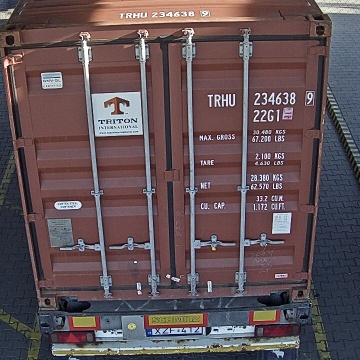serial_id: (207, 91, 314, 106)
